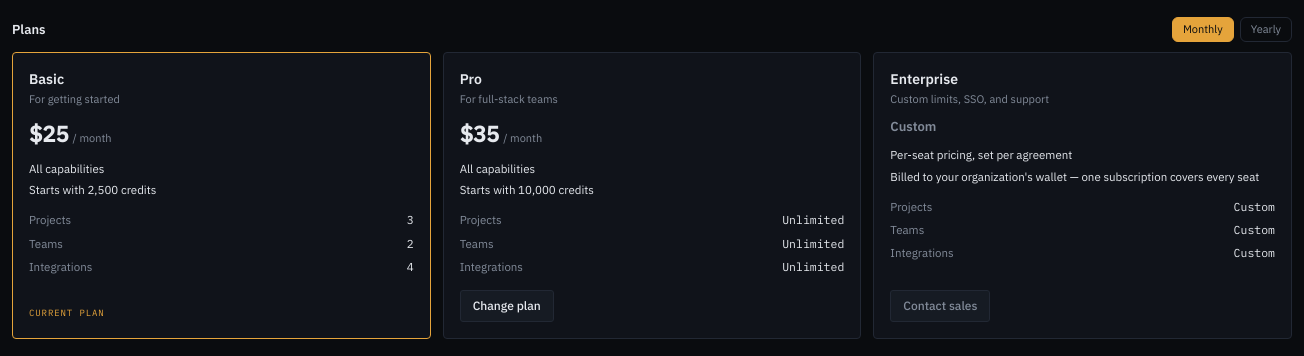
Test: PlanCards interval toggle and badge › badges the current plan only on the toggle interval that matches
This screenshot has width=1304, height=356.
Expected: the text "CURRENT PLAN" is shown, x1=29 y1=307 x2=105 y2=318
Click the button "Yearly": (1266, 29) x1=1240 y1=17 x2=1292 y2=42
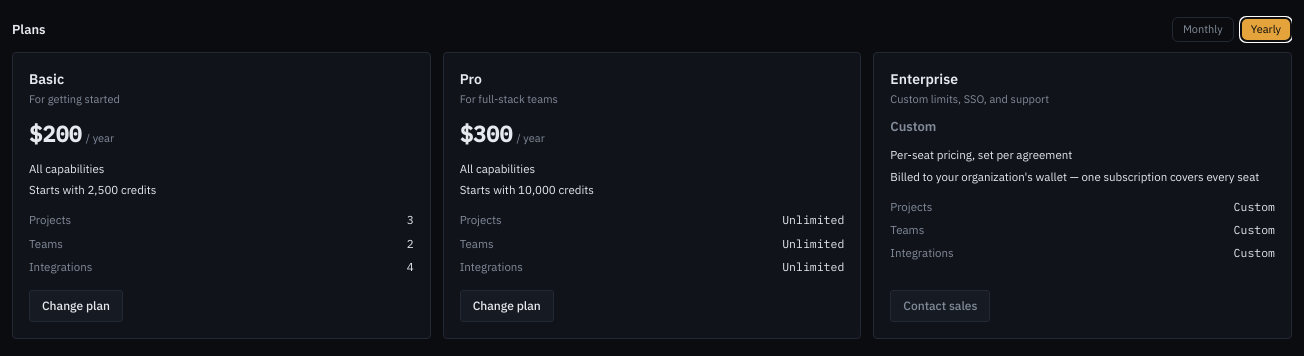
Expected: the text "CURRENT PLAN" is gone
Expected: the button "Change plan" below "Starts with 2,500 credits" is shown, x1=29 y1=290 x2=123 y2=322
